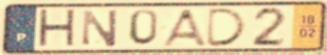0: (126, 9, 159, 48)
2: (251, 6, 290, 47)
A: (159, 8, 210, 48)
D: (204, 6, 250, 48)
H: (36, 8, 77, 50)
N: (81, 8, 121, 49)
